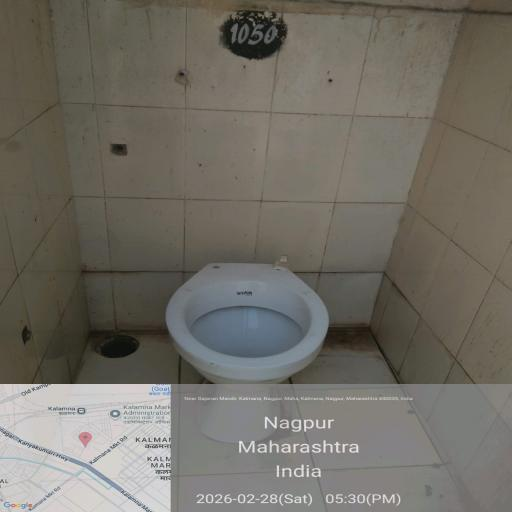clean_floor: (70, 150, 492, 244)
clean_western: (174, 264, 332, 375)
partial_dirty_floor: (44, 0, 512, 140), (20, 264, 512, 384), (0, 49, 76, 266)
